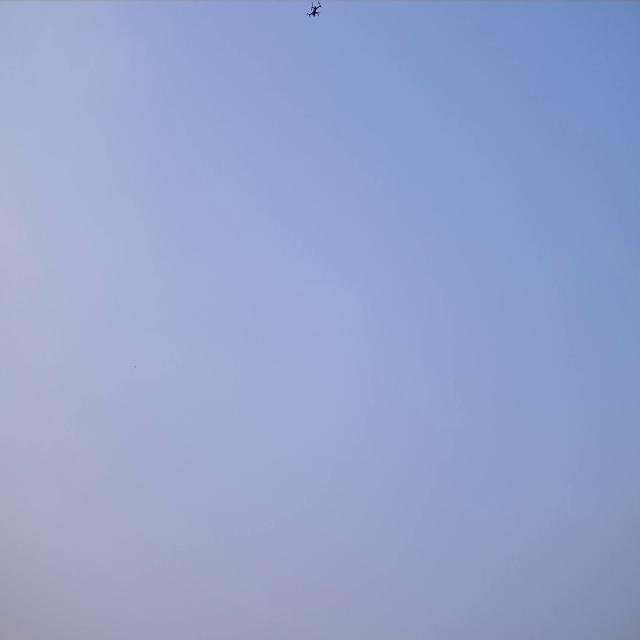UAV: (307, 0, 322, 19)
